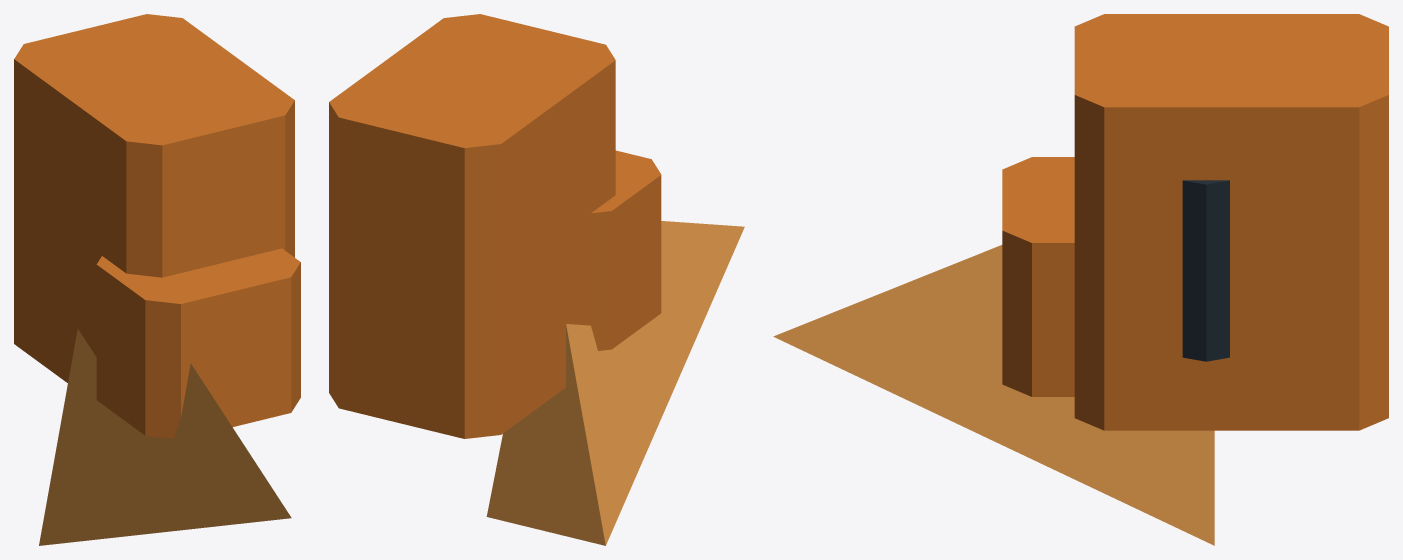
Rendered from enemy_runner_lod_forearm_l.obj.
The picture shows the model from 3 angles, left to right: view 1: azimuth 30°, elevation 25°; view 2: azimuth 150°, elevation 25°; view 3: azimuth 270°, elevation 25°; orthographic projection. The views are drawn at different scales.
Bounding box in the file's own units: 0.3316 × 0.635 × 0.725.
